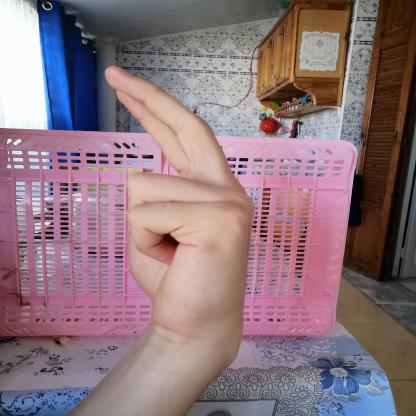ZAY: (91, 57, 263, 362)
